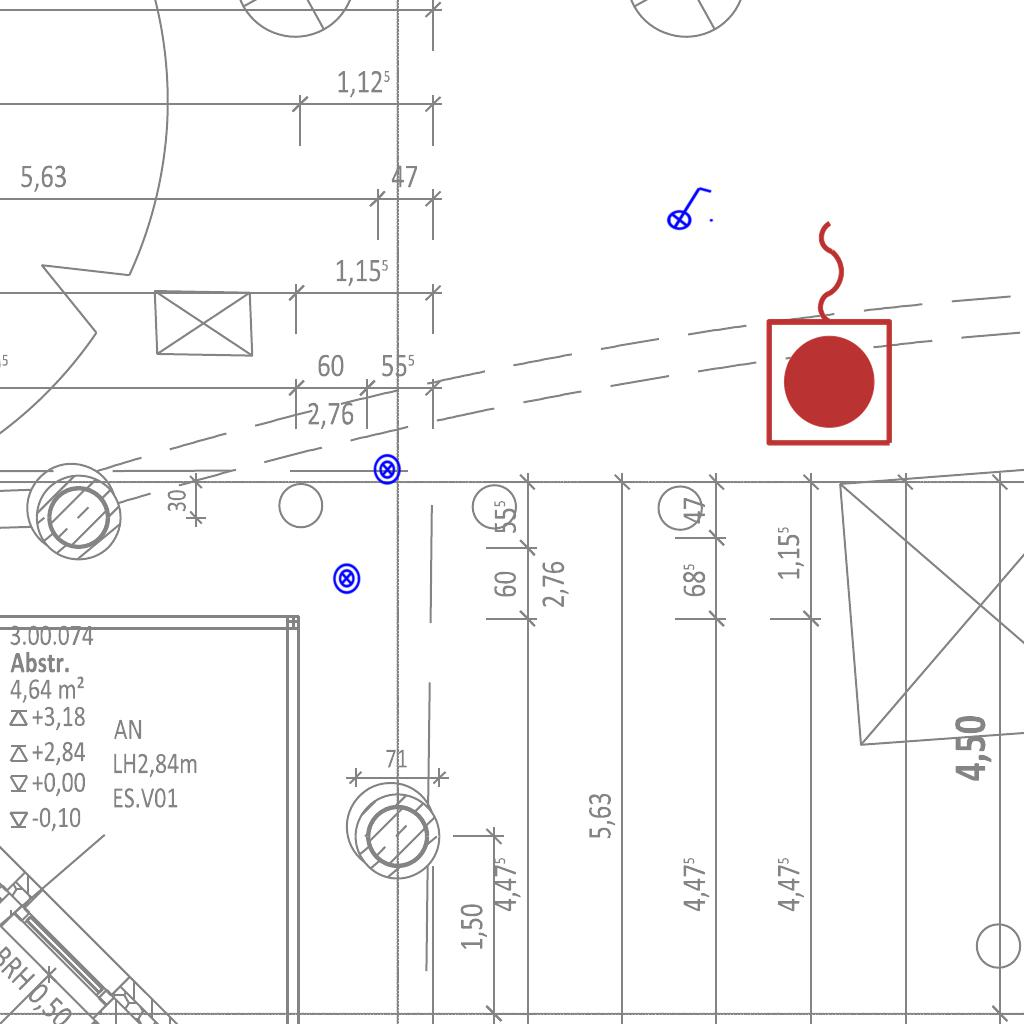Ausschalter_beleuchtet: (660, 183, 716, 231)
Taster_beleuchtet: (330, 562, 363, 595), (371, 453, 404, 486)
Zugtaster: (759, 210, 903, 454)
